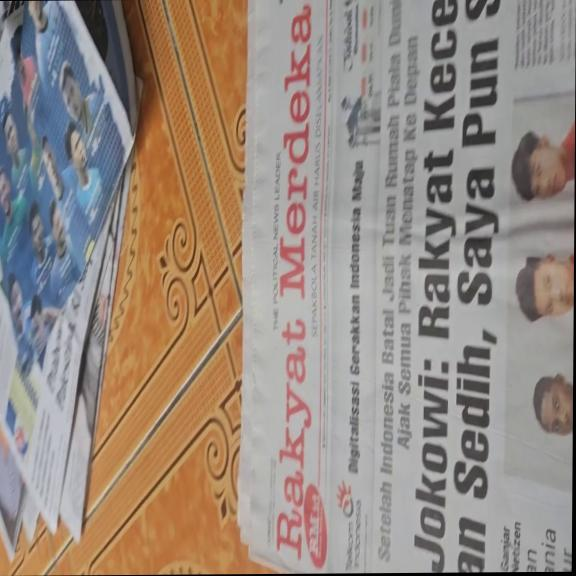Kertas: (241, 3, 569, 573)
